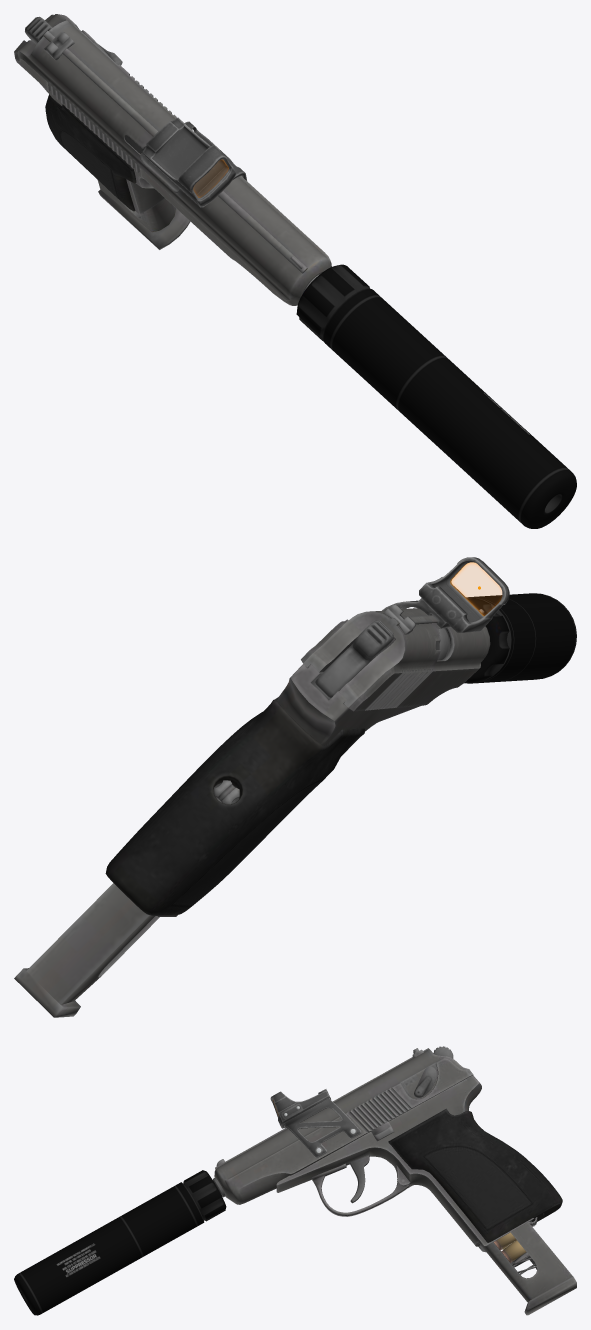
The model's file is makarovAttack.glb.
3 renders of one model, top to bottom at view 1: azimuth 30°, elevation 25°; view 2: azimuth 150°, elevation 25°; view 3: azimuth 270°, elevation 25°, orthographic. The views are drawn at different scales.
Parts seen in each view (by area): view 1: Makarov_suppressor_10, Makarov_slide_9, Makarov_base_12, Makarov_sight_8, Makarov_mag_7; view 2: Makarov_base_12, Makarov_slide_9, Makarov_mag_7, Makarov_suppressor_10, Makarov_sight_8, Makarov_hammer_6; view 3: Makarov_base_12, Makarov_slide_9, Makarov_suppressor_10, Makarov_mag_7, Makarov_sight_8, Makarov_trigger_11.
Boxes of the visible parts, x1=… form: Makarov_suppressor_10: x1=296, y1=264, x2=576, y2=528; Makarov_slide_9: x1=14, y1=14, x2=331, y2=305; Makarov_base_12: x1=30, y1=40, x2=319, y2=290; Makarov_sight_8: x1=142, y1=117, x2=246, y2=207; Makarov_mag_7: x1=97, y1=180, x2=190, y2=249; Makarov_base_12: x1=105, y1=628, x2=448, y2=916; Makarov_slide_9: x1=301, y1=604, x2=490, y2=711; Makarov_mag_7: x1=14, y1=883, x2=159, y2=1017; Makarov_suppressor_10: x1=464, y1=593, x2=576, y2=683; Makarov_sight_8: x1=382, y1=557, x2=509, y2=632; Makarov_hammer_6: x1=315, y1=620, x2=393, y2=697; Makarov_base_12: x1=213, y1=1075, x2=562, y2=1252; Makarov_slide_9: x1=214, y1=1048, x2=473, y2=1204; Makarov_suppressor_10: x1=14, y1=1170, x2=226, y2=1315; Makarov_mag_7: x1=479, y1=1222, x2=576, y2=1315; Makarov_sight_8: x1=270, y1=1089, x2=361, y2=1157; Makarov_trigger_11: x1=349, y1=1155, x2=369, y2=1203.
Bounding box in the file's own units: 0.3117 × 0.4111 × 0.9979.
2 materials, 2 textured.
